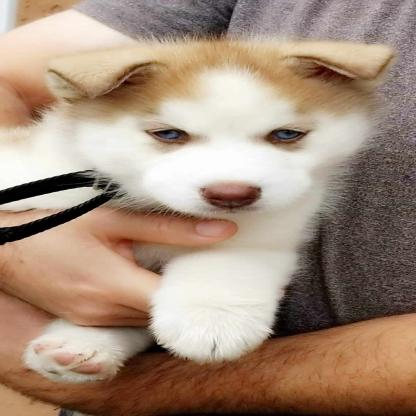dog: (1, 40, 390, 391)
